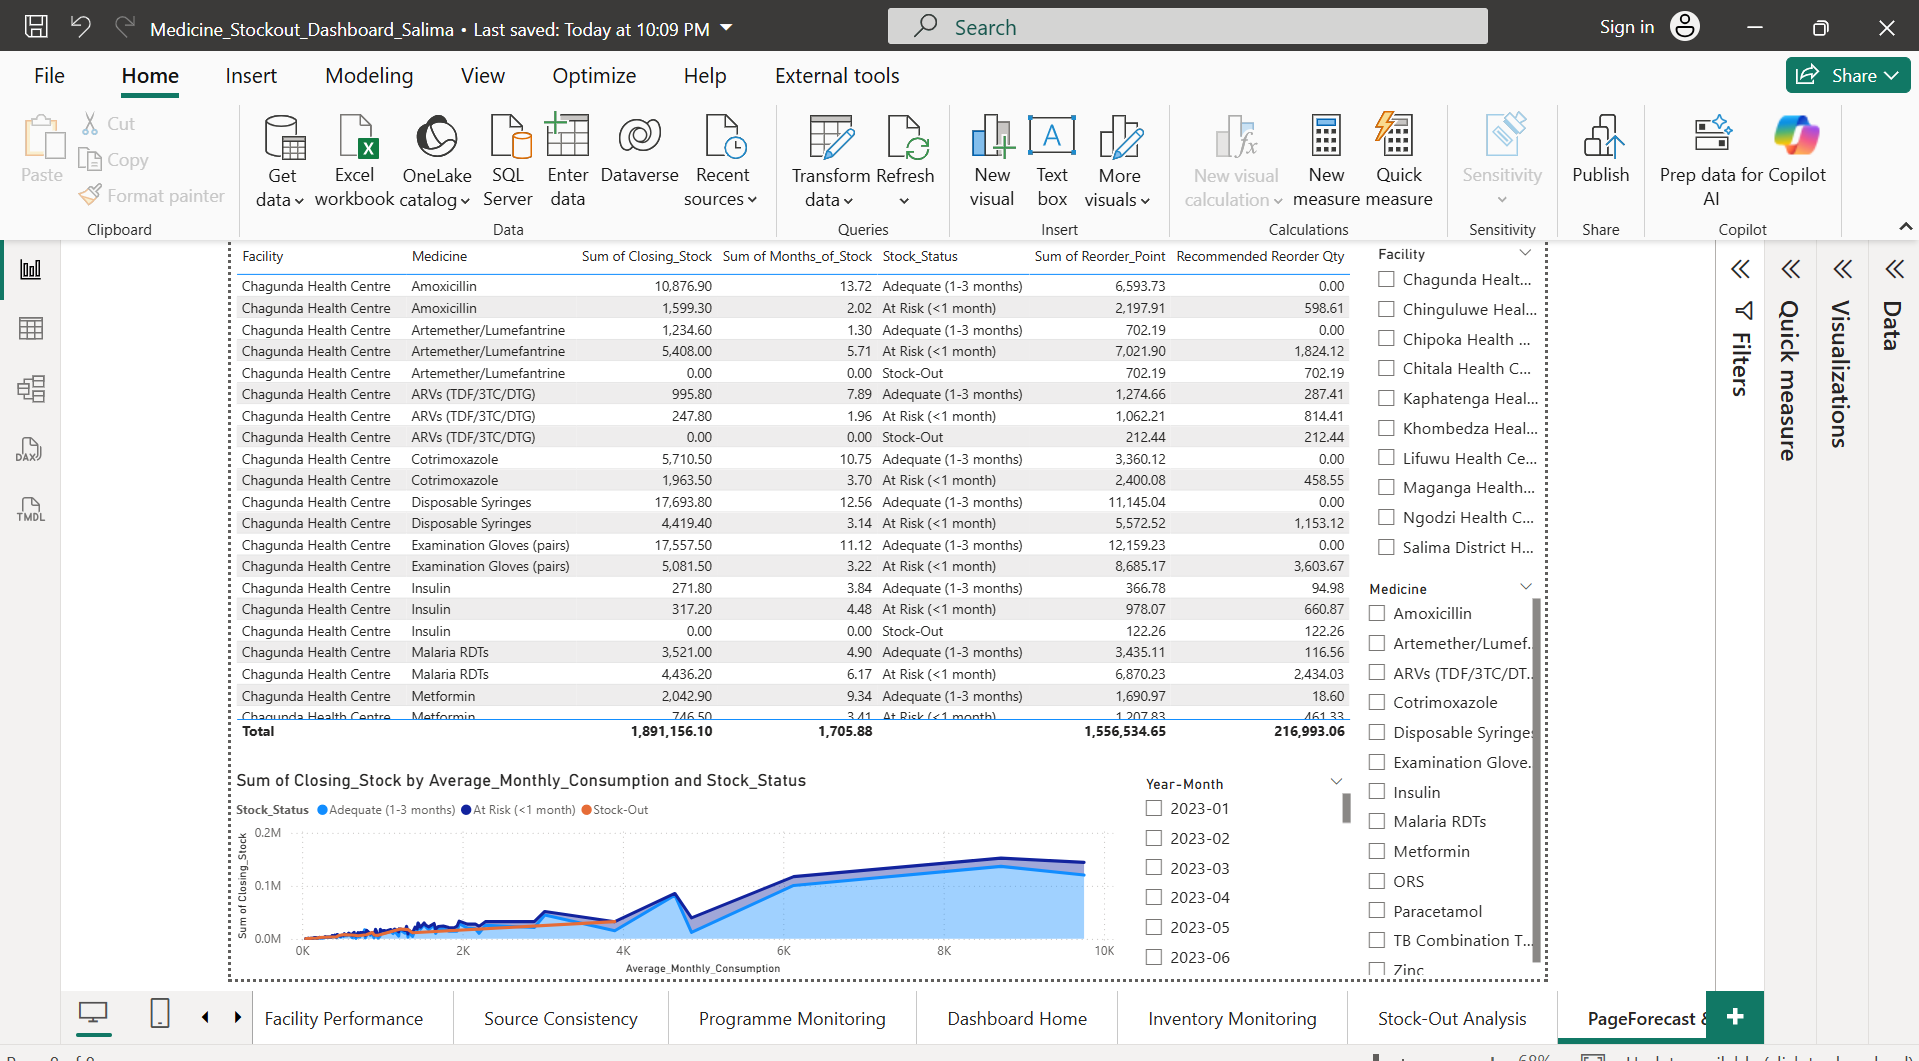

This screenshot's page, from the dashboard's own definition file:
{"tool":"powerbi","page":{"name":"PageForecast & Risk 2","canvas":[1280,720],"ordinal":7},"visuals":[{"type":"stackedAreaChart","fields":{"Category":["monthly_stock_summary_clean.Average_Monthly_Consumption"],"Y":["Sum(monthly_stock_summary_clean.Closing_Stock)"],"Series":["monthly_stock_summary_clean.Stock_Status"]},"box":[0,516.3,865.3,203.7],"z":0},{"type":"tableEx","fields":{"Values":["monthly_stock_summary_clean.Facility","monthly_stock_summary_clean.Medicine","Sum(monthly_stock_summary_clean.Closing_Stock)","Sum(monthly_stock_summary_clean.Months_of_Stock)","monthly_stock_summary_clean.Stock_Status","Sum(monthly_stock_summary_clean.Reorder_Point)","monthly_stock_summary_clean.Recommended Reorder Qty"]},"box":[0,0,1222.1,492.6],"z":1000},{"type":"slicer","fields":{"Values":["monthly_stock_summary_clean.Facility"]},"box":[1105.3,0,175.3,325.3],"z":1001},{"type":"slicer","fields":{"Values":["monthly_stock_summary_clean.Medicine"]},"box":[1095.8,325.3,184.7,394.7],"z":1002},{"type":"slicer","fields":{"Values":["Calendar.Year-Month"]},"box":[877.9,516.3,217.9,203.7],"z":1003}]}

Visuals, with their boxes on the page's 1280x720 design canvas (x1, y1, x2, y2). These are canvas units, not pixel positions in the 1919x1061 screenshot, which may show the page scaled, cropped or inside an application window:
stackedAreaChart - monthly_stock_summary_clean.Average_Monthly_Consumption x Sum(monthly_stock_summary_clean.Closing_Stock): left=0, top=516, right=865, bottom=720
tableEx - monthly_stock_summary_clean.Facility x monthly_stock_summary_clean.Medicine: left=0, top=0, right=1222, bottom=493
slicer - monthly_stock_summary_clean.Facility: left=1105, top=0, right=1281, bottom=325
slicer - monthly_stock_summary_clean.Medicine: left=1096, top=325, right=1280, bottom=720
slicer - Calendar.Year-Month: left=878, top=516, right=1096, bottom=720
